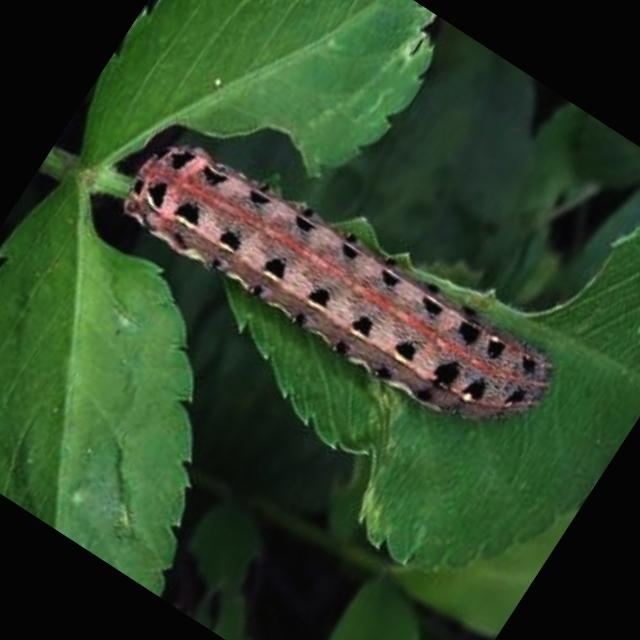Tobacco cutworm: (61, 69, 597, 521)
